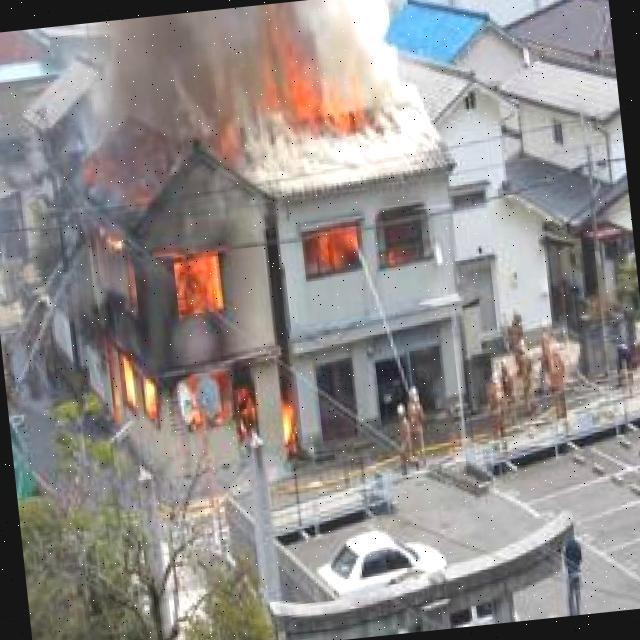Fire: (84, 221, 303, 476), (232, 18, 383, 140), (299, 223, 419, 282)
